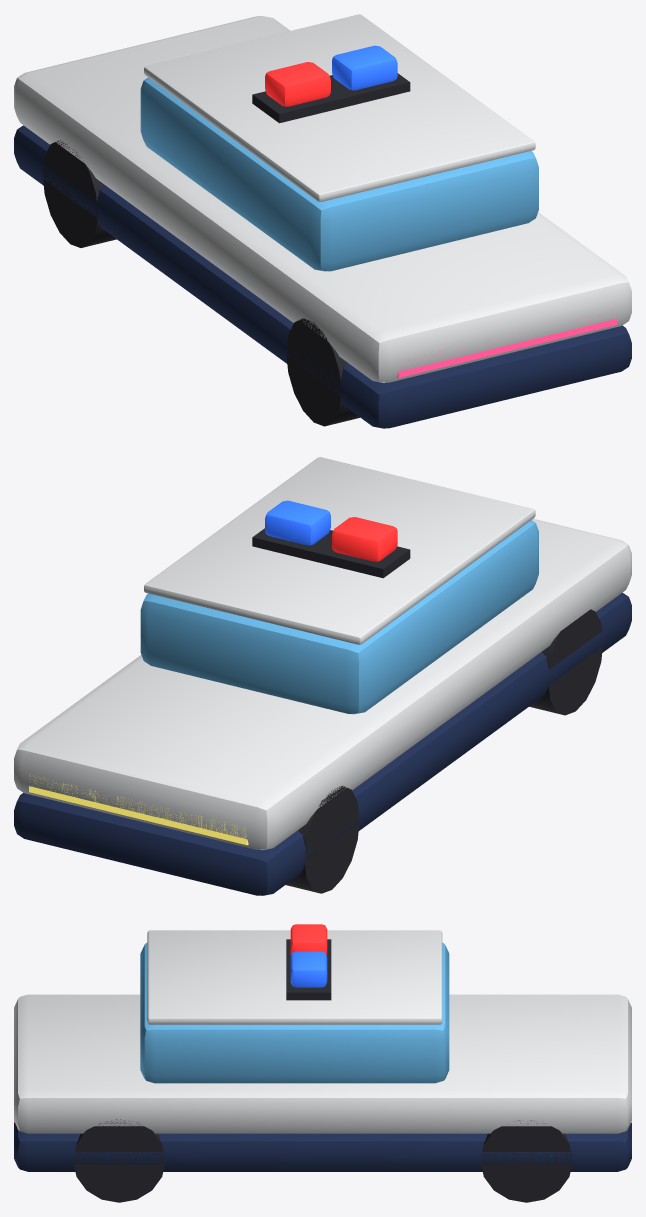
The model's file is police.glb.
The picture shows the model from 3 angles, top to bottom: view 1: azimuth 30°, elevation 25°; view 2: azimuth 150°, elevation 25°; view 3: azimuth 270°, elevation 25°; orthographic projection. The views are drawn at different scales.
Parts seen in each view (by area): view 1: body; view 2: body; view 3: body.
Part boxes in pixels (x1,y1,x2,y2): body: [14, 14, 631, 428]; body: [14, 457, 631, 895]; body: [14, 924, 631, 1202].
Bounding box in the file's own units: 1.8 × 1.6 × 4.4.
